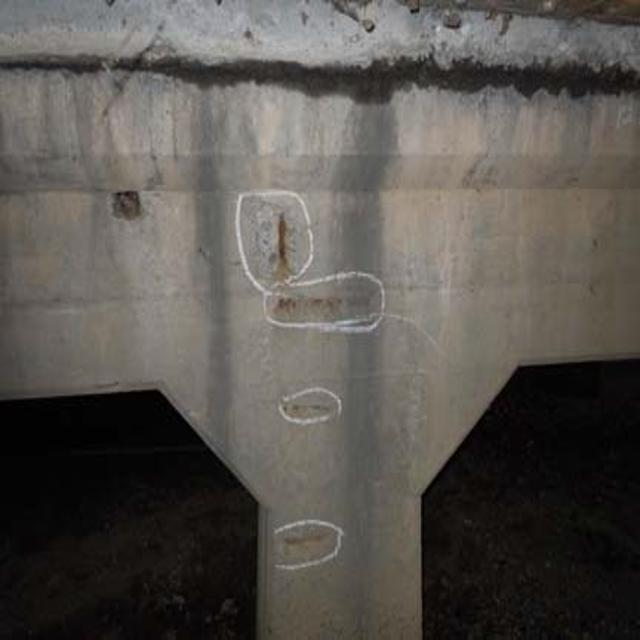spalling: (229, 163, 387, 333), (267, 513, 360, 576), (271, 381, 343, 436)
